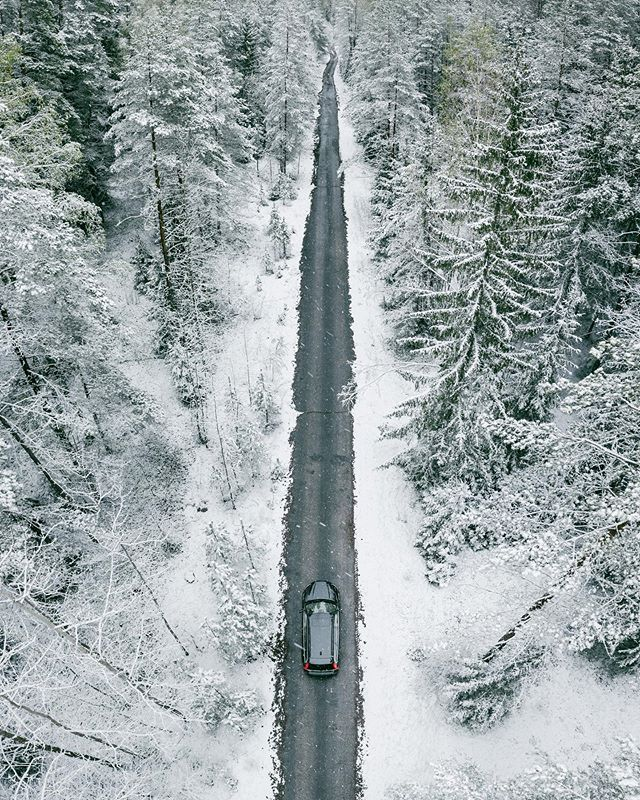car: (292, 575, 346, 687)
road: (248, 70, 376, 800)
vegetation: (1, 1, 262, 796), (382, 1, 640, 789)
